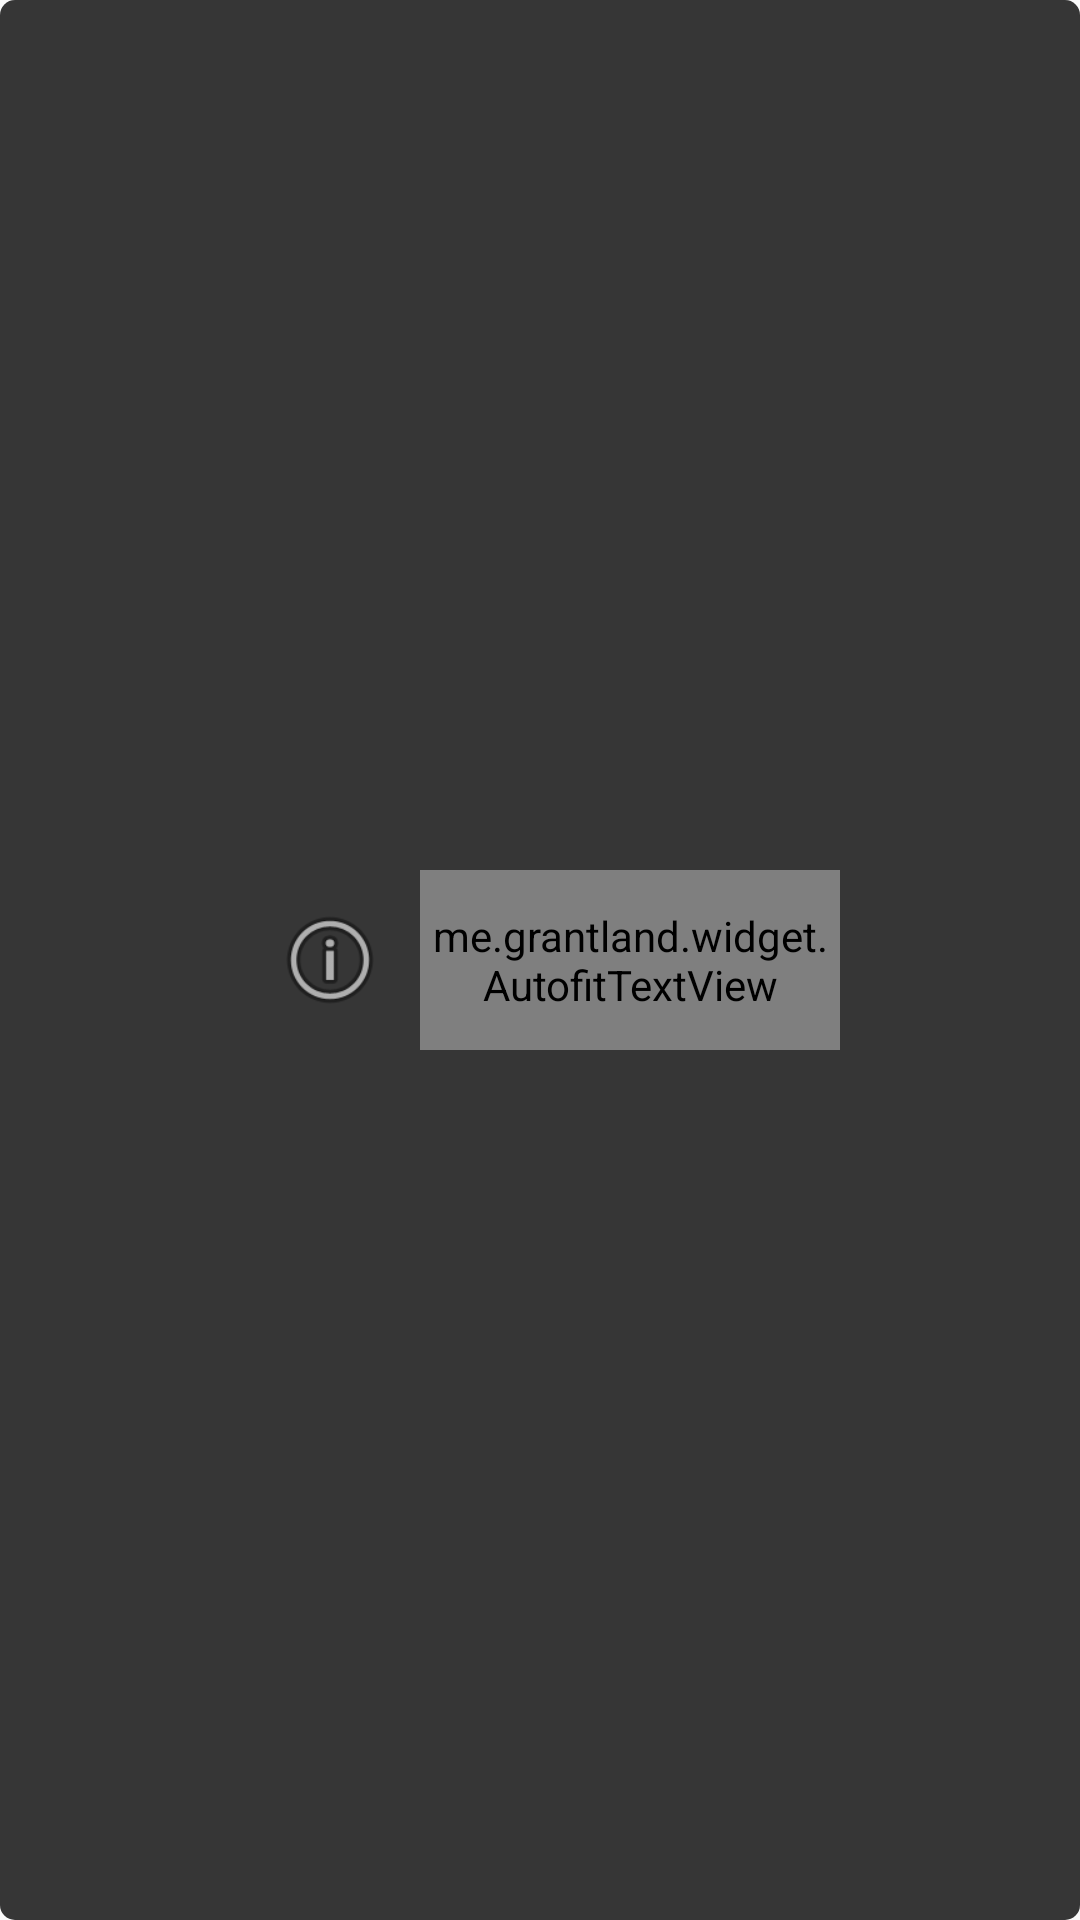

Screen size 1080 x 1920. Icon name, then its center in pixels as [x,y]:
info details: [330,960]
